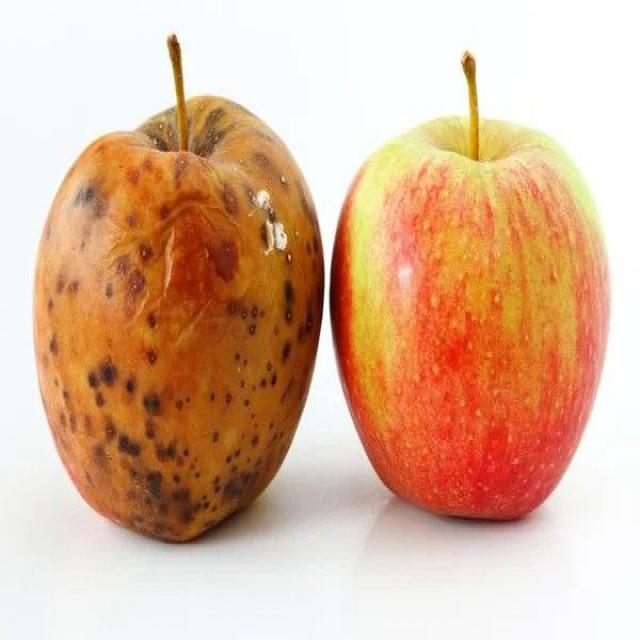Fresh Apple: (338, 109, 614, 534)
Rotten: (40, 102, 312, 538)
